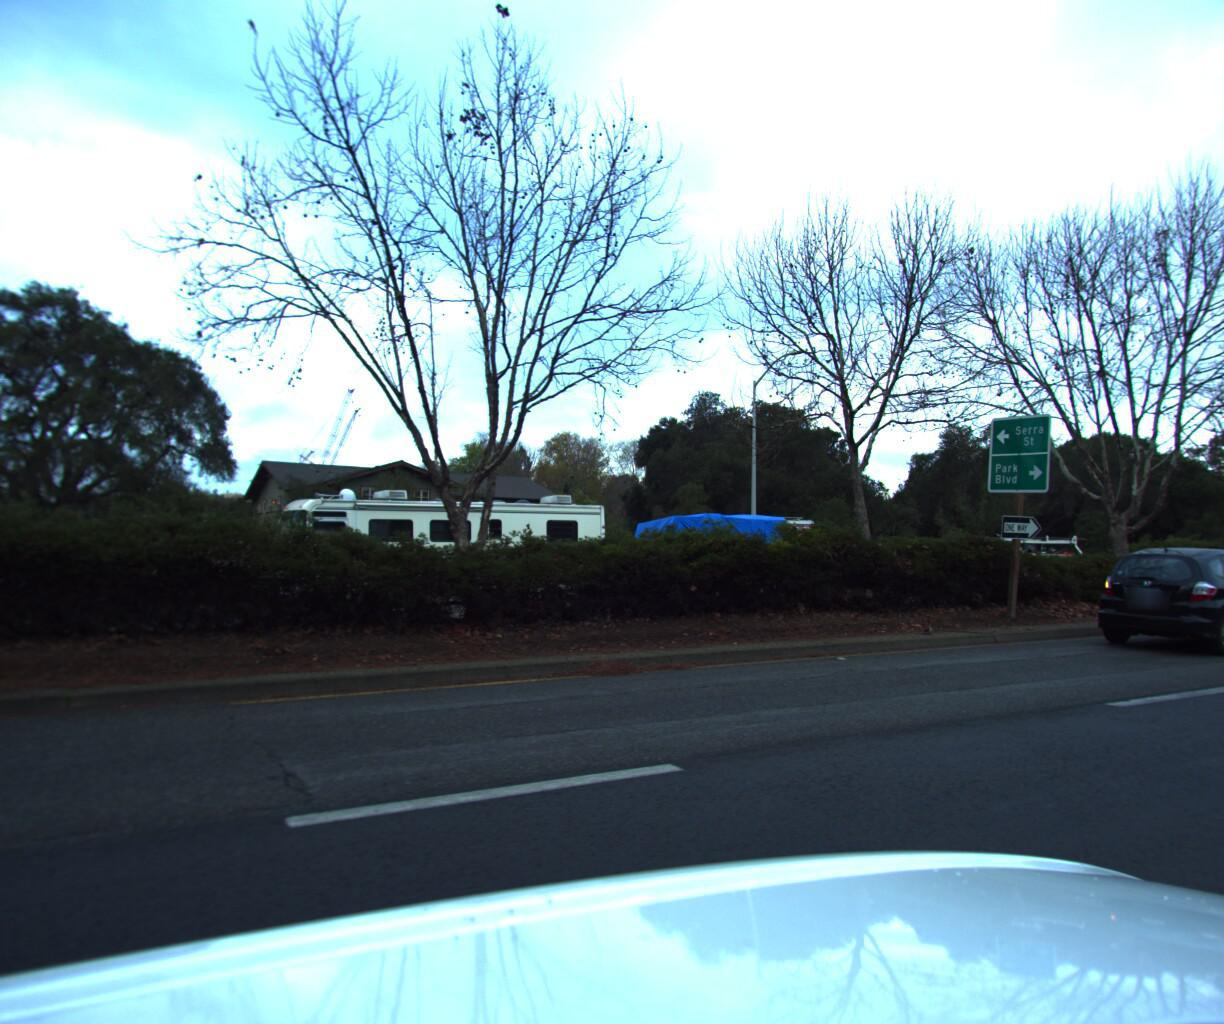car: (1083, 548, 1224, 661), (943, 510, 1101, 560)
other_vehicle: (248, 469, 613, 613), (617, 501, 827, 614)
